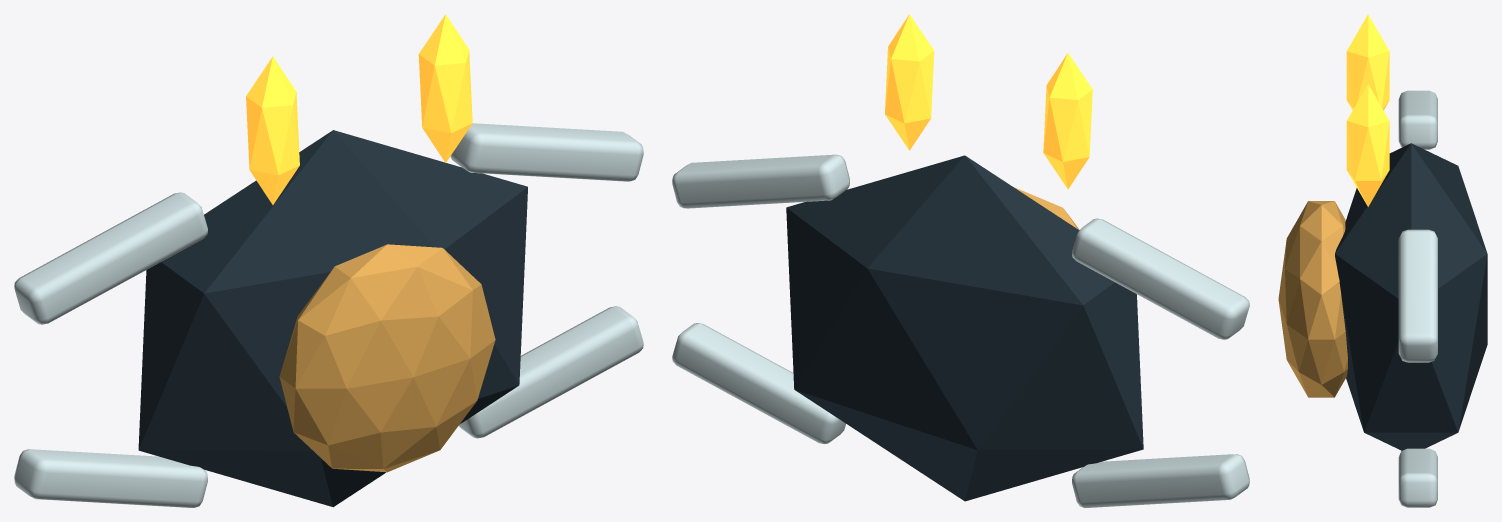
The model's file is walker.glb.
3 renders of one model, left to right at view 1: azimuth 30°, elevation 25°; view 2: azimuth 150°, elevation 25°; view 3: azimuth 270°, elevation 25°, orthographic. The views are drawn at different scales.
Parts seen in each view (by area): view 1: Housing.002, Core.002, Leg-10.28, Leg-1-0.28, Leg10.28, Leg1-0.28, Antenna-1, Antenna1; view 2: Housing.002, Leg-10.28, Leg1-0.28, Leg10.28, Leg-1-0.28, Antenna1, Antenna-1; view 3: Housing.002, Core.002, Leg10.28, Antenna1, Antenna-1, Leg1-0.28, Leg-10.28.
Boxes of the visible parts, <box> form: Housing.002: <box>138,130,527,507</box>; Core.002: <box>279,244,495,472</box>; Leg-10.28: <box>14,192,207,324</box>; Leg-1-0.28: <box>14,449,207,507</box>; Leg10.28: <box>450,123,643,181</box>; Leg1-0.28: <box>458,306,643,438</box>; Antenna-1: <box>246,56,299,204</box>; Antenna1: <box>418,14,472,162</box>; Housing.002: <box>786,155,1143,501</box>; Leg-10.28: <box>1072,218,1249,339</box>; Leg1-0.28: <box>672,323,845,443</box>; Leg10.28: <box>672,154,849,208</box>; Leg-1-0.28: <box>1072,454,1249,507</box>; Antenna1: <box>885,14,934,150</box>; Antenna-1: <box>1043,53,1092,189</box>; Housing.002: <box>1335,143,1487,450</box>; Core.002: <box>1278,201,1347,397</box>; Leg10.28: <box>1398,229,1437,362</box>; Antenna1: <box>1346,84,1389,206</box>; Antenna-1: <box>1346,14,1389,110</box>; Leg1-0.28: <box>1398,448,1437,507</box>; Leg-10.28: <box>1398,90,1437,149</box>.
Size of the model in its own units: 1.64 by 1.25 by 0.5827.
